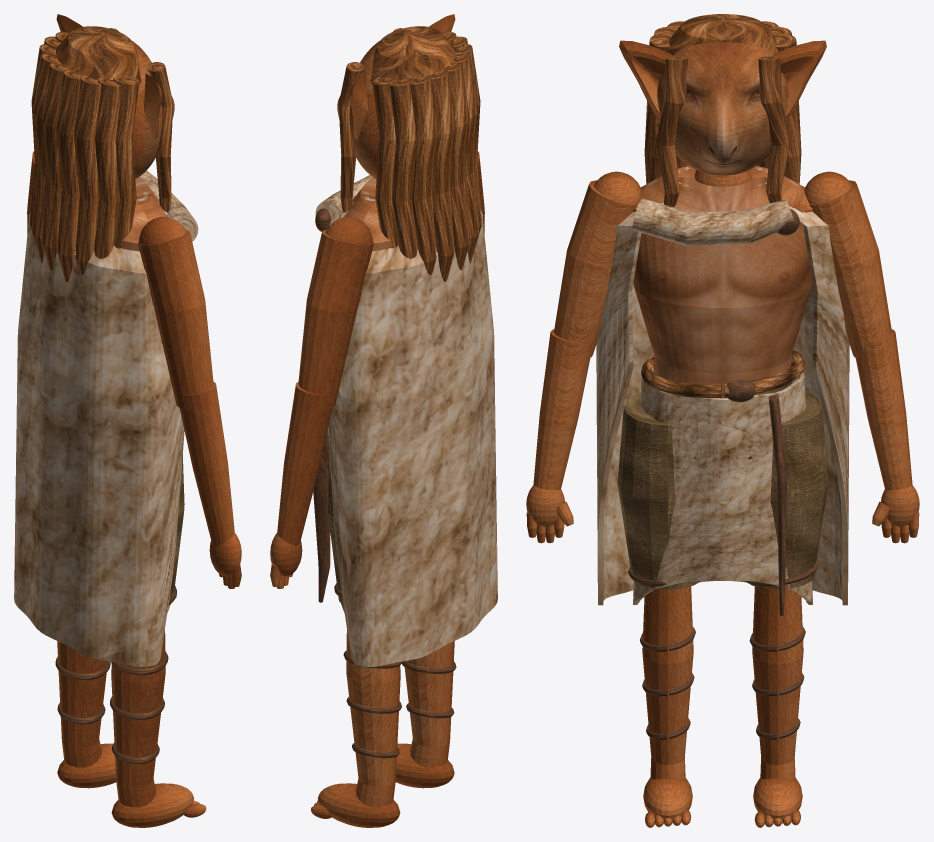
The model's file is yastay.obj.
3 renders of one model, left to right at view 1: azimuth 30°, elevation 25°; view 2: azimuth 150°, elevation 25°; view 3: azimuth 270°, elevation 25°, orthographic.
Parts seen in each view (by area): view 1: mantle_wool, hair_hair, right_upper_skin, right_shin_skin, right_fore_skin, left_shin_skin, right_foot_skin, head_skin, left_foot_skin, right_hand_skin, right_shin_leather, head_face (+4 smaller); view 2: mantle_wool, hair_hair, left_upper_skin, left_shin_skin, left_fore_skin, right_shin_skin, left_foot_skin, waist_wrap_leather, head_skin, right_foot_skin, left_hand_skin, head_face (+5 smaller); view 3: mantle_wool, torso_torso_front, waist_wrap_wool, hair_hair, head_face, right_thigh_pants, right_upper_skin, left_upper_skin, right_shin_skin, left_shin_skin, left_thigh_pants, right_fore_skin (+10 smaller).
Part boxes in pixels (x1,y1,x2,y2): mantle_wool: (14,170,198,666); hair_hair: (29,26,173,281); right_upper_skin: (138,216,213,408); right_shin_skin: (111,630,165,807); right_fore_skin: (179,381,234,545); left_shin_skin: (57,641,107,767); right_foot_skin: (111,783,206,827); head_skin: (56,14,162,174); left_foot_skin: (57,743,116,788); right_hand_skin: (209,533,241,588); right_shin_leather: (110,651,168,763); head_face: (132,41,174,178); mantle_wool: (315,175,497,666); hair_hair: (338,26,482,281); left_upper_skin: (298,216,373,408); left_shin_skin: (346,630,400,807); left_fore_skin: (277,381,332,545); right_shin_skin: (404,641,454,767); left_foot_skin: (311,783,400,827); waist_wrap_leather: (313,430,330,602); head_skin: (349,14,455,174); right_foot_skin: (395,743,454,788); left_hand_skin: (270,533,302,588); head_face: (337,41,379,178); mantle_wool: (596,166,849,605); torso_torso_front: (633,177,812,396); waist_wrap_wool: (633,372,812,604); hair_hair: (644,14,801,207); head_face: (657,42,788,175); right_thigh_pants: (617,392,700,589); right_upper_skin: (554,171,641,358); left_upper_skin: (804,171,891,358); right_shin_skin: (642,586,693,778); left_shin_skin: (752,586,803,778); left_thigh_pants: (748,392,828,589); right_fore_skin: (533,329,590,490).
Bounding box in the file's own units: 17.91 × 100 × 45.53.
3 materials, 3 textured.
